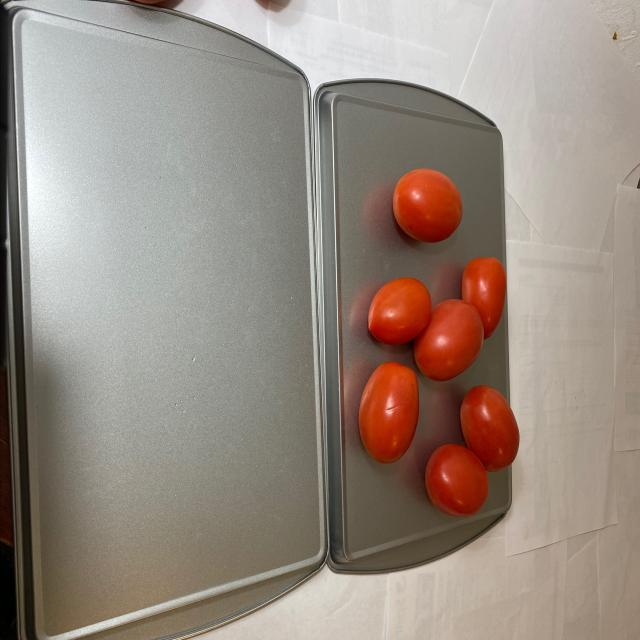tomato: (352, 157, 520, 524)
